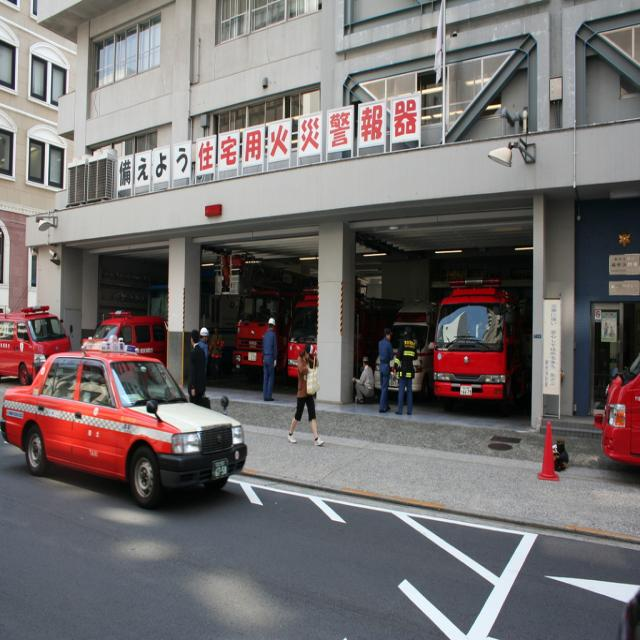other: (1, 350, 248, 505)
